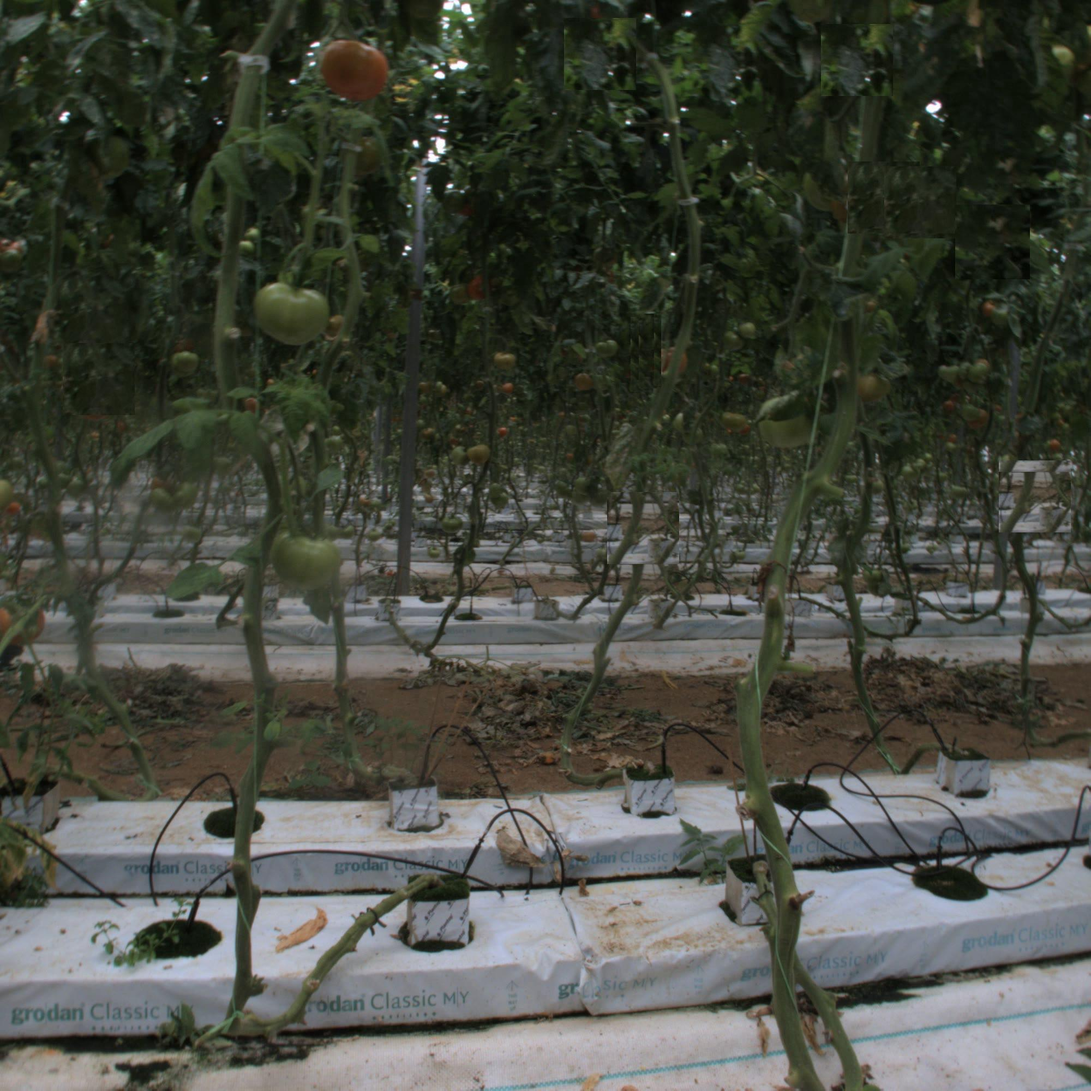fully-ripe: (322, 32, 388, 98)
unripe: (255, 271, 329, 345), (273, 525, 339, 591)
